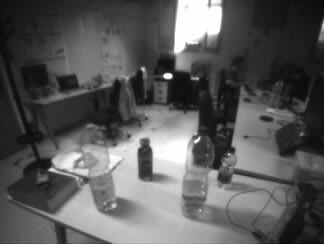Bottle: (82, 125, 117, 212), (182, 129, 208, 219), (138, 138, 152, 180), (220, 146, 234, 187)
